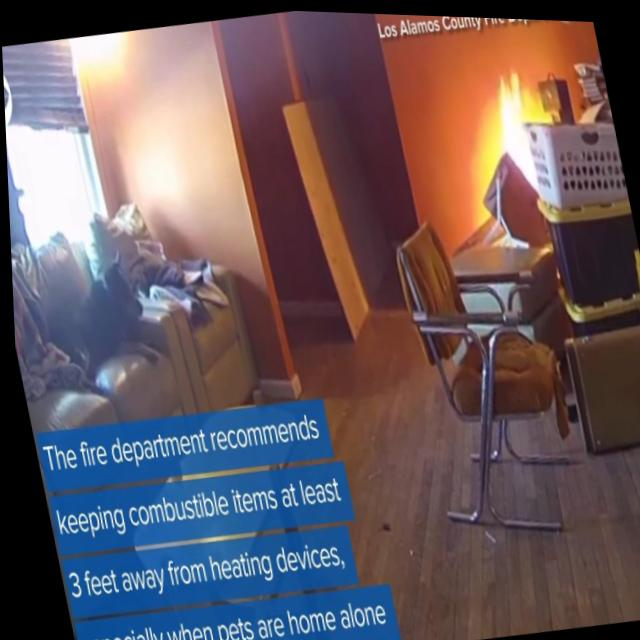fire: (466, 53, 565, 212)
